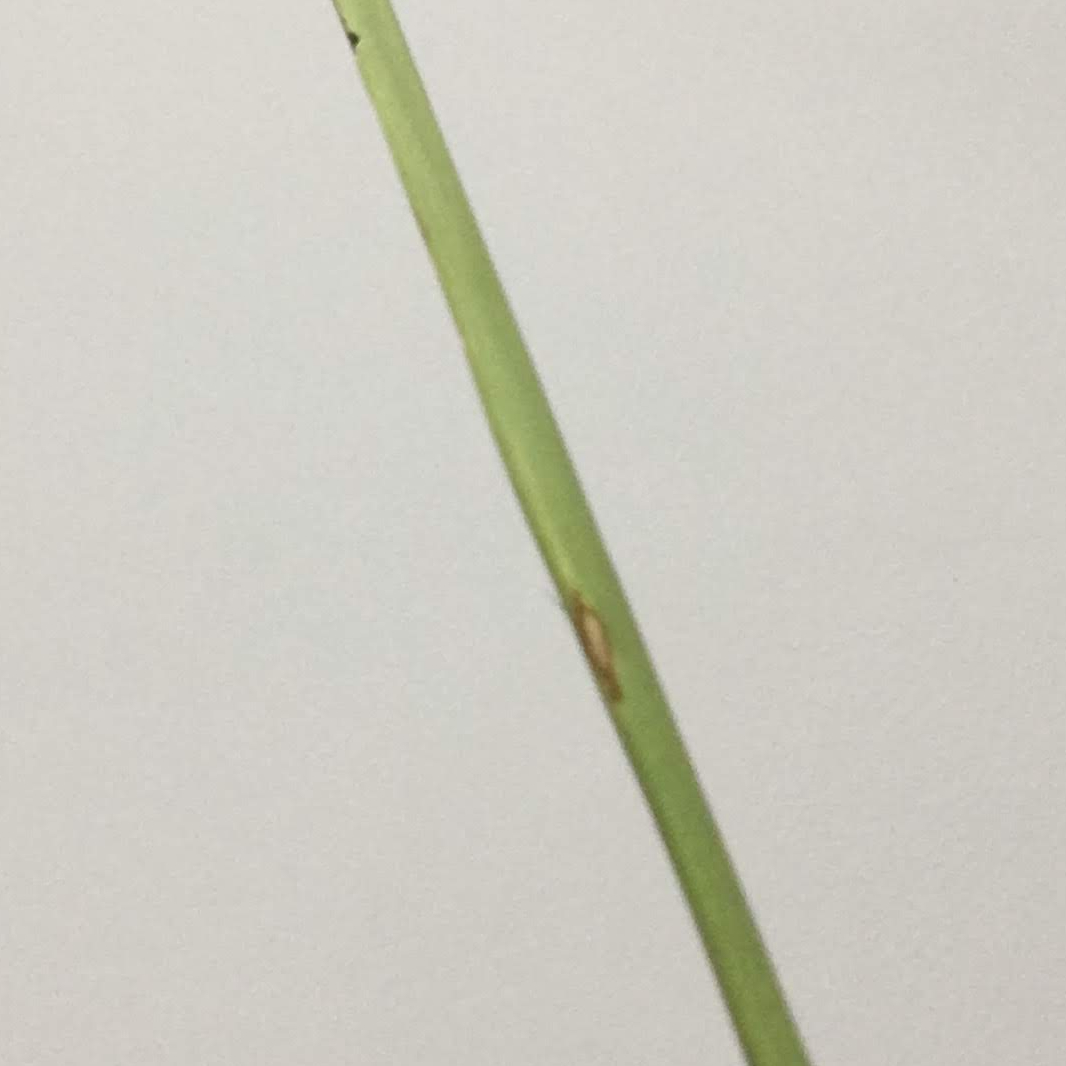leaf blast: (326, 3, 809, 1050)
